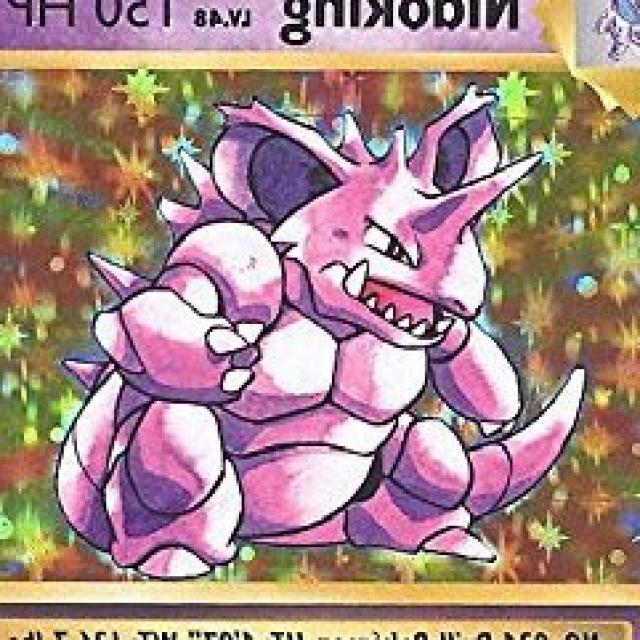Nidoking: (55, 82, 588, 572)
